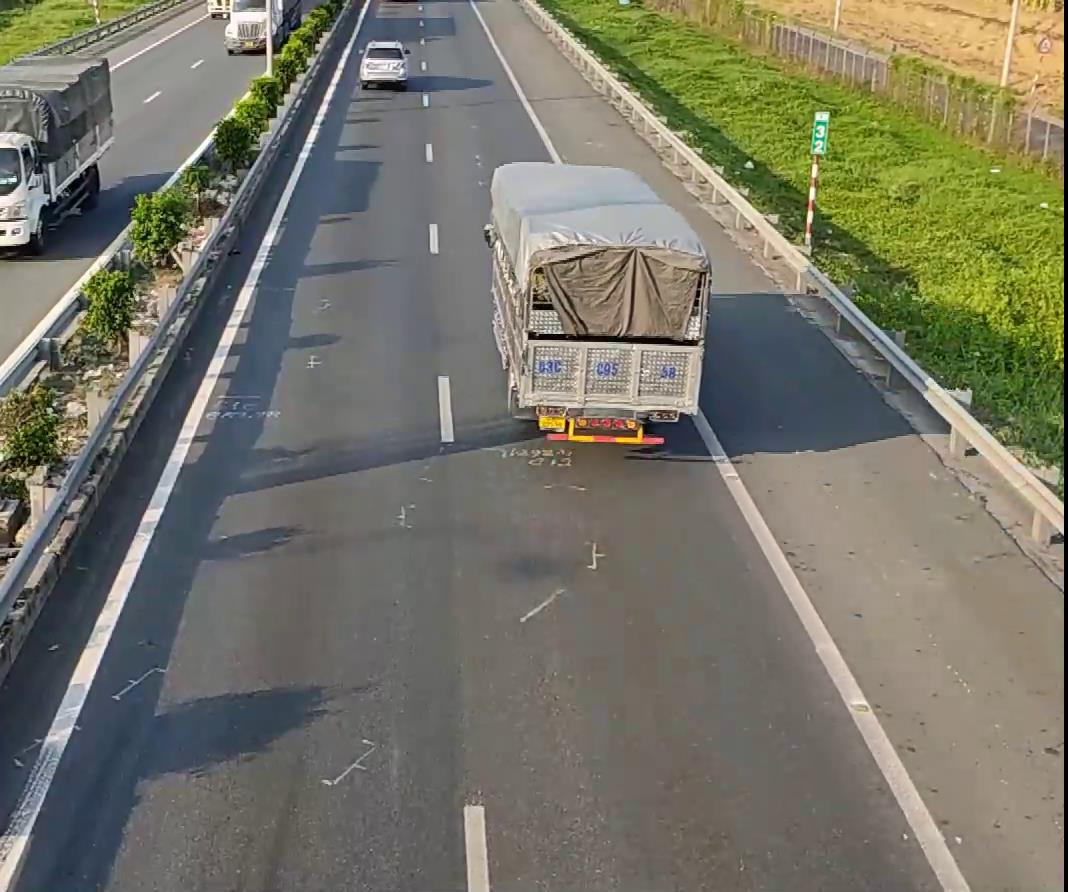truck: (481, 158, 714, 448), (0, 52, 115, 255)
